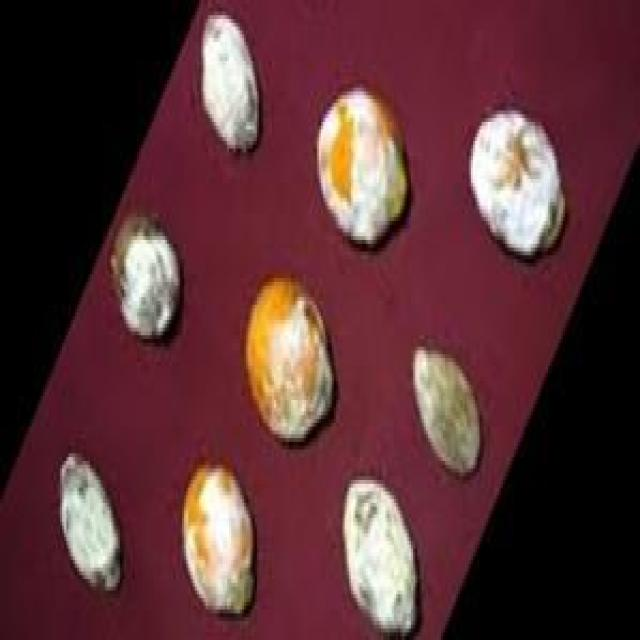damaged: (246, 274, 338, 450), (319, 84, 413, 255), (469, 107, 569, 267), (338, 476, 424, 636), (182, 461, 257, 621), (411, 343, 486, 484), (56, 453, 128, 598), (109, 217, 186, 347), (201, 15, 265, 152)
